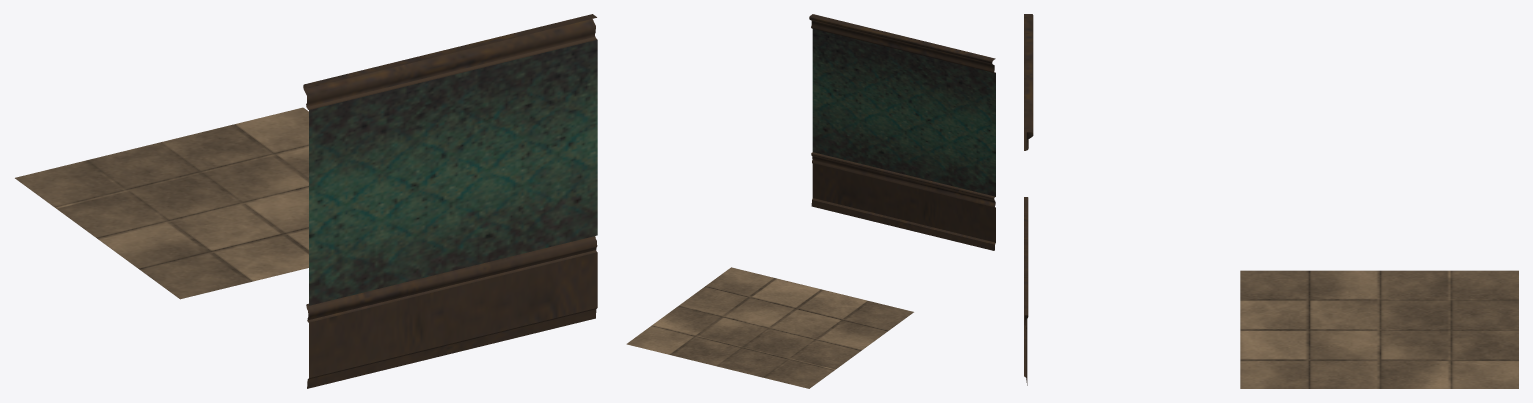
The model's file is Wall&Floor.fbx.
3 views of the same model, side by side, from view 1: azimuth 30°, elevation 25°; view 2: azimuth 150°, elevation 25°; view 3: azimuth 270°, elevation 25° (orthographic). The views are drawn at different scales.
Parts seen in each view (by area): view 1: Wall, Floor; view 2: Wall, Floor; view 3: Floor, Wall.
Part boxes in pixels (x1,y1,x2,y2): Wall: (303,14,597,388); Floor: (15,107,308,299); Wall: (809,14,995,250); Floor: (626,267,913,388); Floor: (1240,270,1518,388); Wall: (1024,14,1033,385).
Size of the model in its own units: 44156 by 44596 by 77938.
